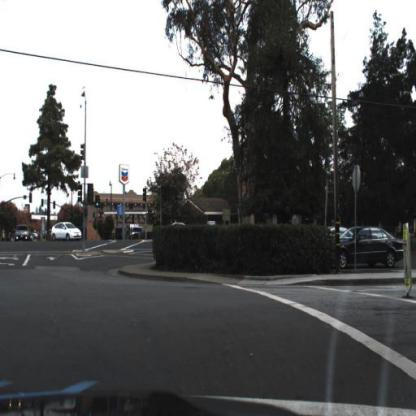car: (340, 223, 409, 273), (324, 225, 361, 252), (52, 219, 83, 245), (50, 221, 84, 244), (13, 223, 33, 246)
